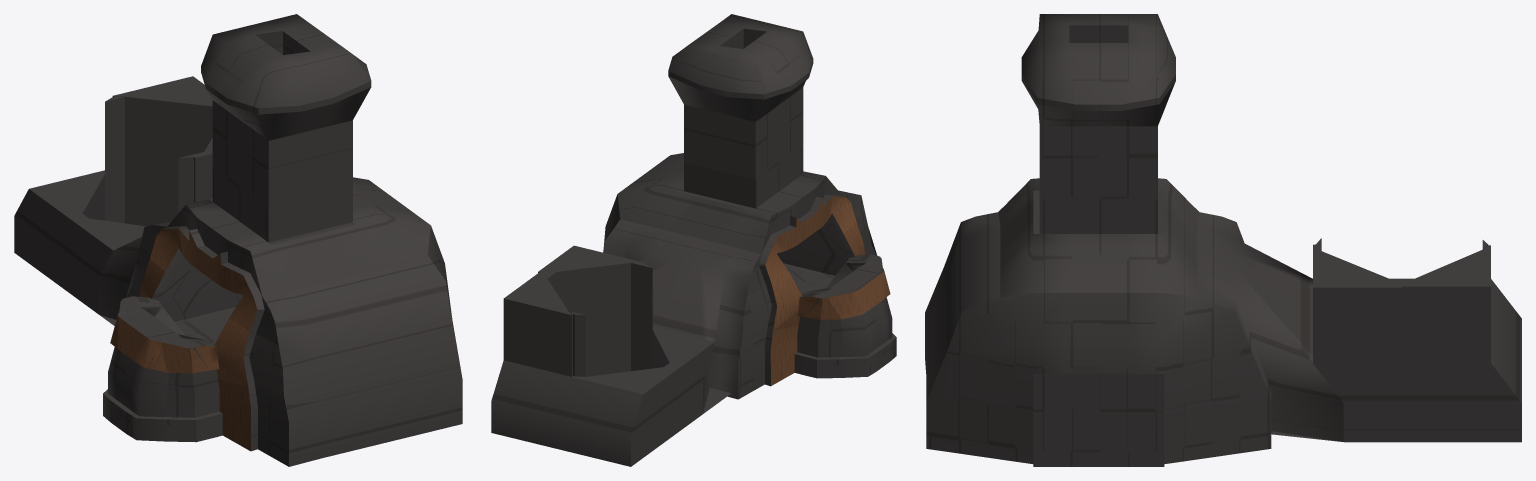
The model's file is Furnace.fbx.
The picture shows the model from 3 angles, left to right: view 1: azimuth 30°, elevation 25°; view 2: azimuth 150°, elevation 25°; view 3: azimuth 270°, elevation 25°; orthographic projection. The views are drawn at different scales.
Parts seen in each view (by area): view 1: pCube1; view 2: pCube1; view 3: pCube1.
Boxes of the visible parts, x1,y1,x2,y2 form: pCube1: [14, 14, 462, 466]; pCube1: [491, 14, 896, 466]; pCube1: [925, 14, 1521, 466].
Size of the model in its own units: 268 by 298 by 440.
2 materials, 2 textured.
